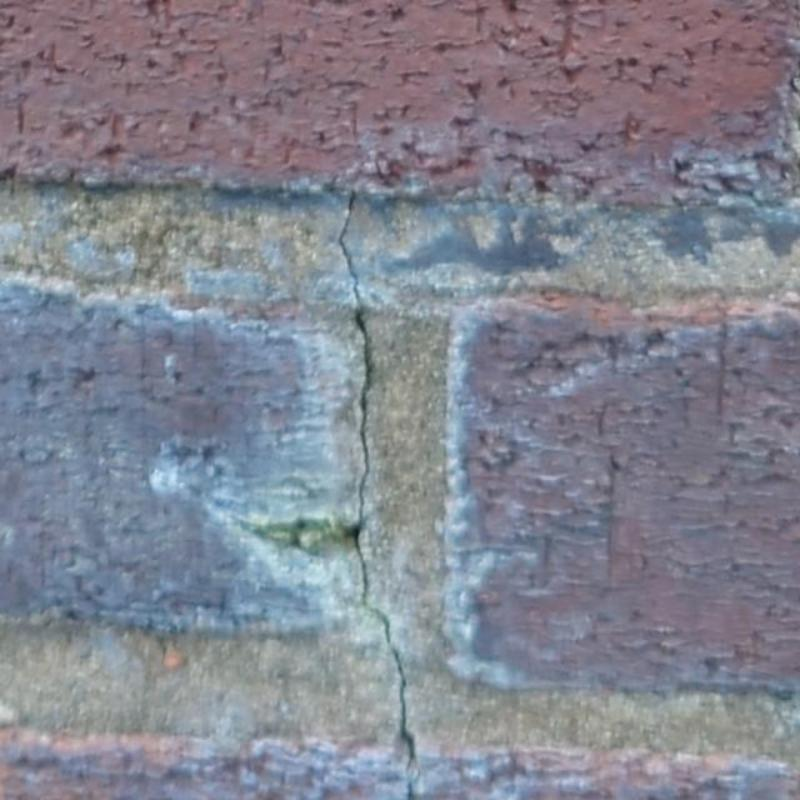pothole: (338, 195, 419, 800)
